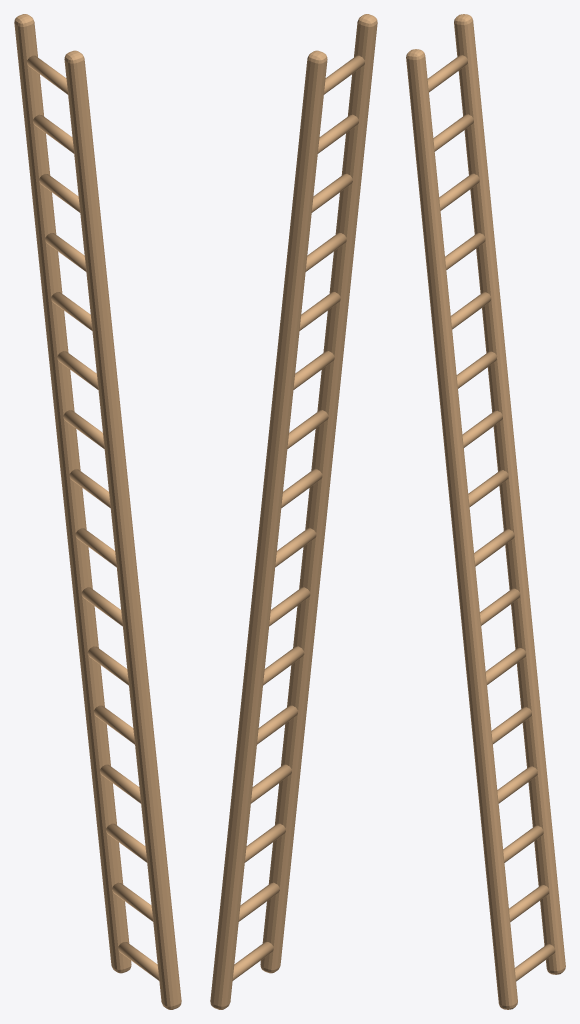
Rendered from LobbyKit3.fbx.
3 views of the same model, side by side, from view 1: azimuth 30°, elevation 25°; view 2: azimuth 150°, elevation 25°; view 3: azimuth 330°, elevation 25° (orthographic). The views are drawn at different scales.
Visible parts, largest first — view 1: LK_Ladder_Oak; view 2: LK_Ladder_Oak; view 3: LK_Ladder_Oak.
Boxes of the visible parts, x1,y1,x2,y2 form: LK_Ladder_Oak: (14, 14, 181, 1009); LK_Ladder_Oak: (210, 14, 377, 1009); LK_Ladder_Oak: (406, 14, 565, 1009).
Size of the model in its own units: 1561 by 12935 by 1420.
